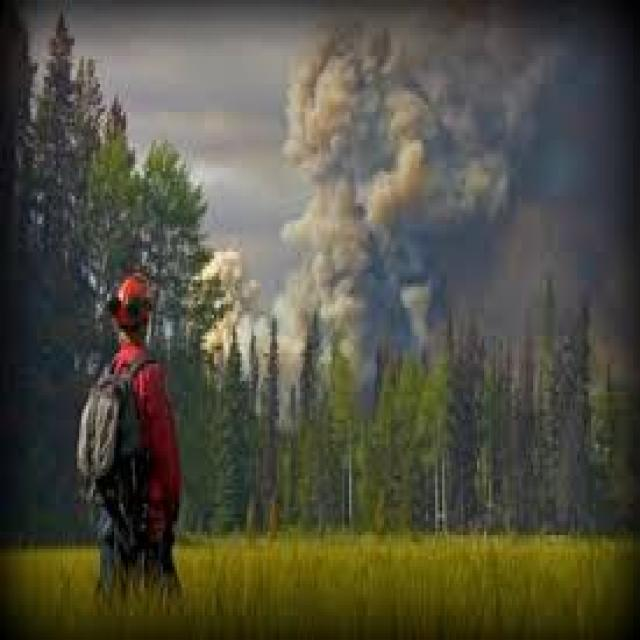Smoke: (185, 0, 588, 387)
